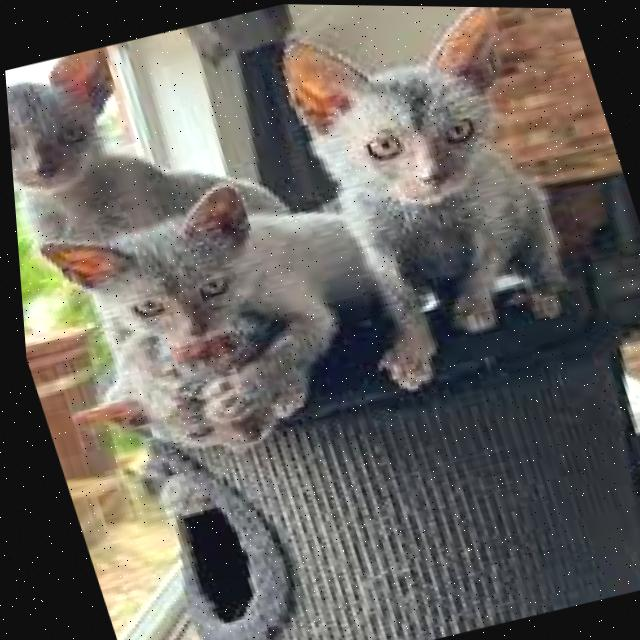Lykoi: (8, 136, 430, 496), (253, 3, 617, 410), (1, 13, 295, 286)
